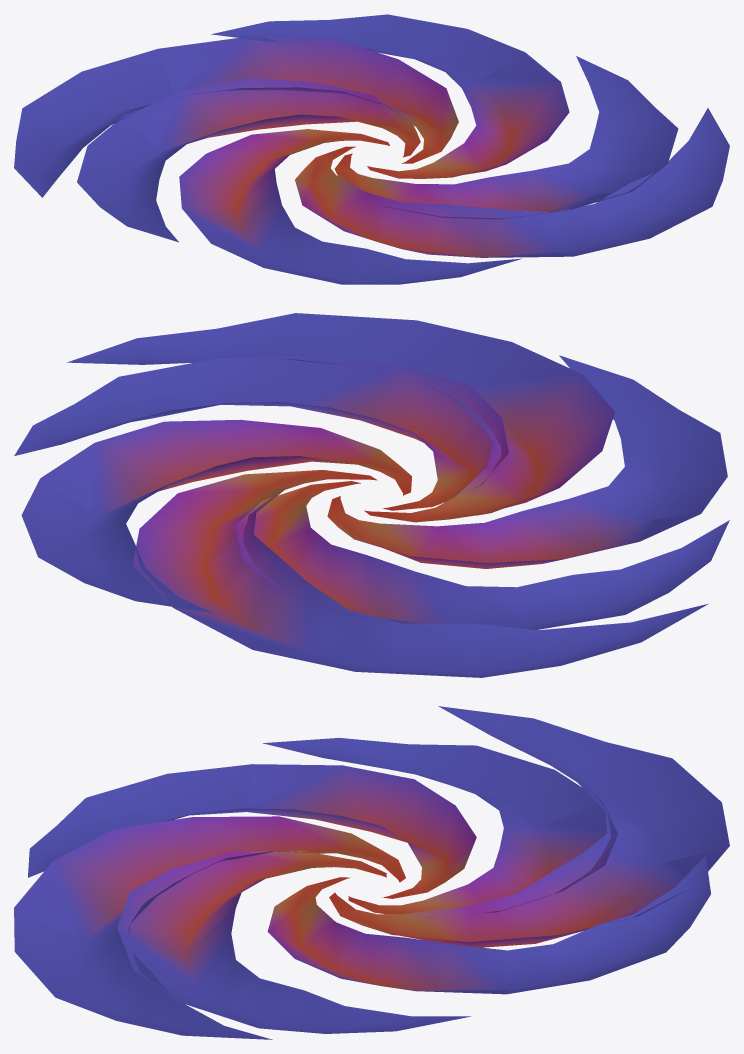
File: space-galaxies-spiral-galaxy_v4.glb
3 views of the same model, one above another, from view 1: azimuth 30°, elevation 25°; view 2: azimuth 150°, elevation 25°; view 3: azimuth 270°, elevation 25° (orthographic). The views are drawn at different scales.
Parts seen in each view (by area): view 1: Spiral Galaxy_v4; view 2: Spiral Galaxy_v4; view 3: Spiral Galaxy_v4.
Boxes of the visible parts, x1=… form: Spiral Galaxy_v4: x1=14, y1=14, x2=729, y2=284; Spiral Galaxy_v4: x1=14, y1=313, x2=729, y2=677; Spiral Galaxy_v4: x1=14, y1=706, x2=729, y2=1039.
Bounding box in the file's own units: 0.5 × 0.0329 × 0.4561.
